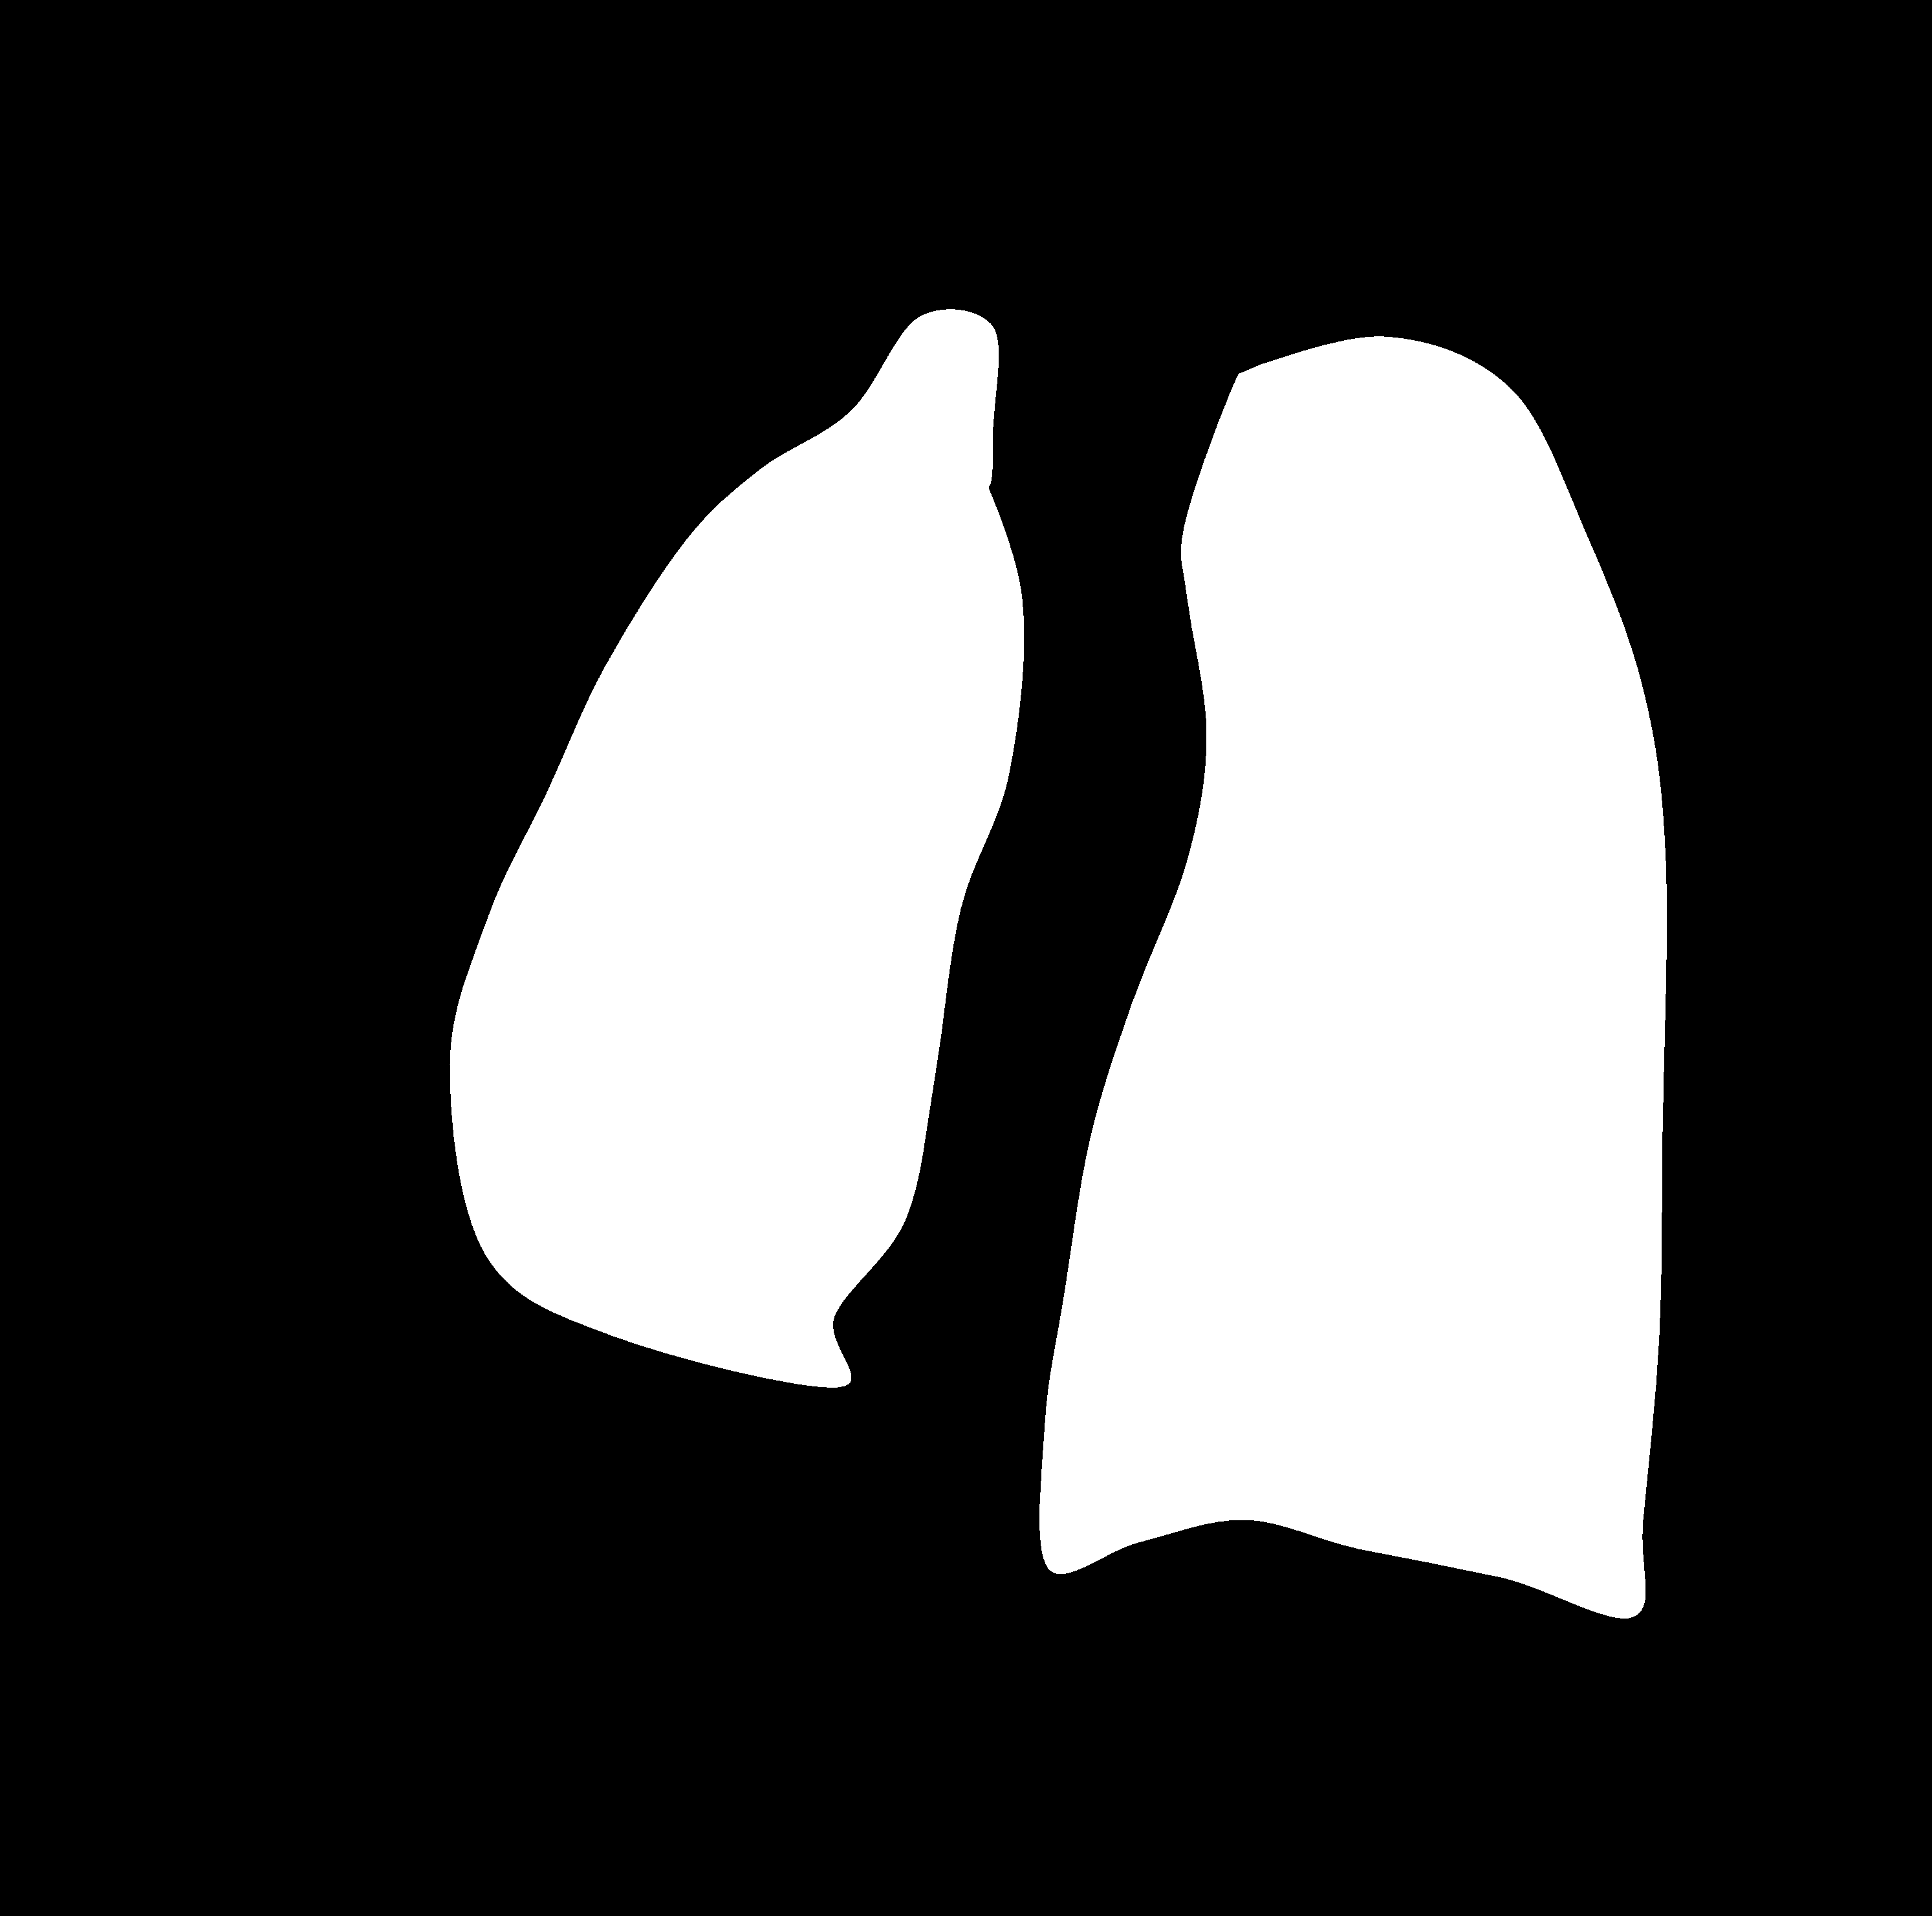heart: (805, 967, 1362, 1469)
left_lung: (449, 309, 1023, 1388)
right_lung: (1039, 337, 1667, 1618)
